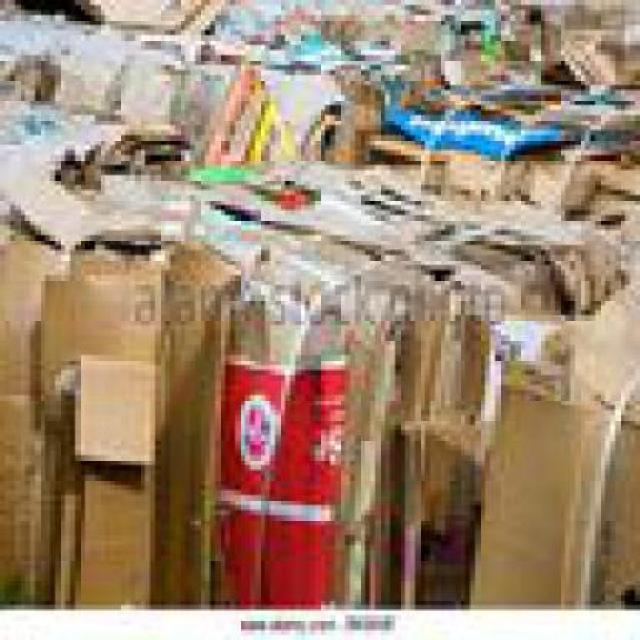CARDBOARD: (185, 165, 600, 604), (0, 164, 195, 604), (464, 280, 636, 605), (364, 65, 636, 220), (110, 60, 365, 189)
